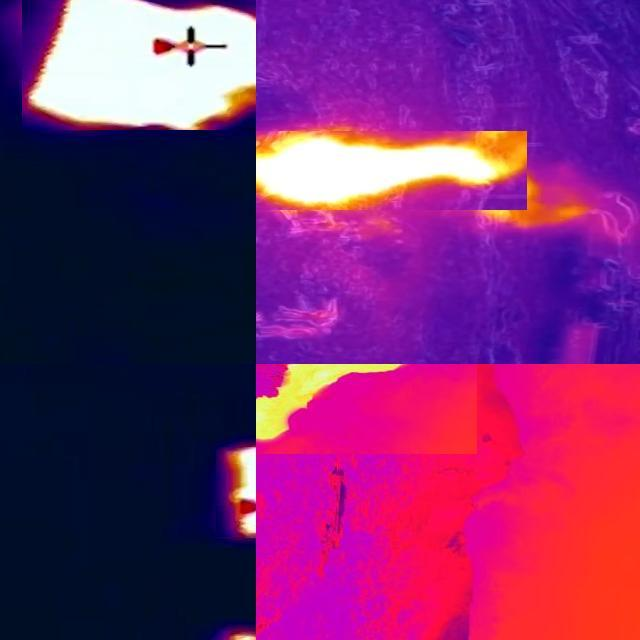fire: (23, 1, 257, 130), (257, 131, 528, 210), (257, 364, 403, 444), (217, 447, 257, 537)
